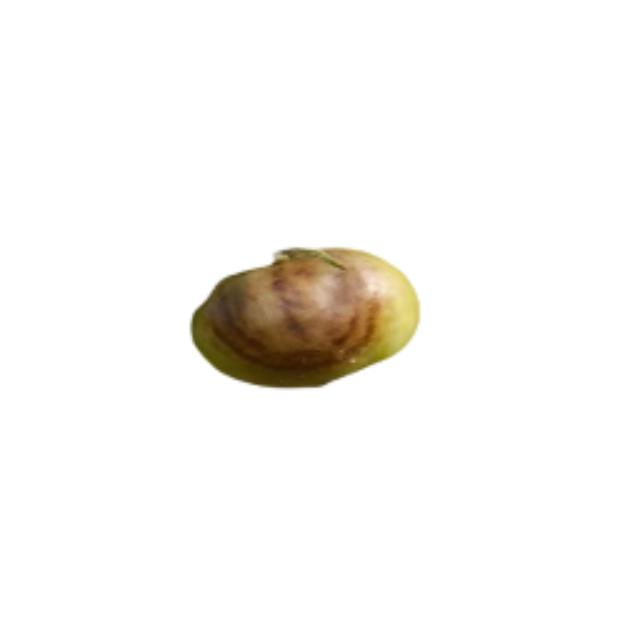defect: (188, 241, 425, 392)
